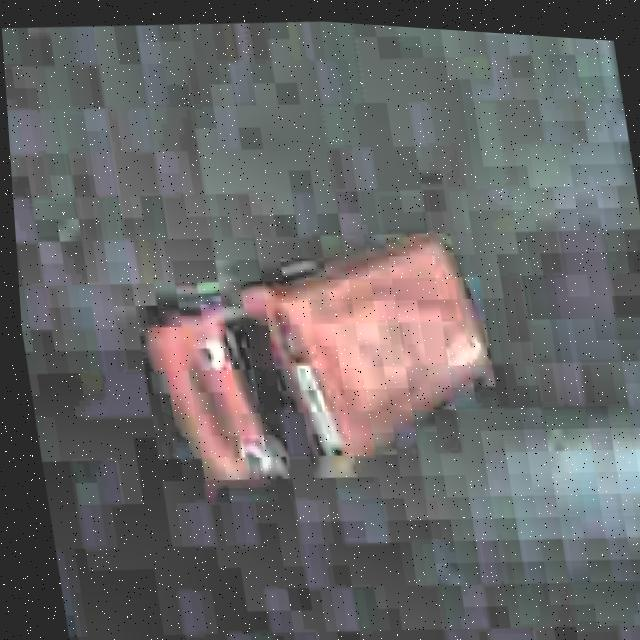bus: (116, 195, 528, 516)
